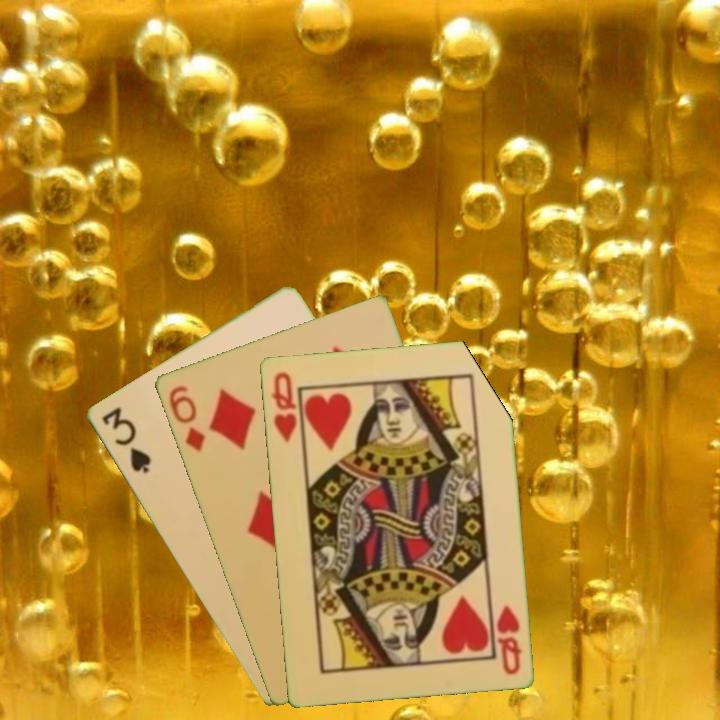3s: (97, 403, 154, 476)
6d: (164, 381, 208, 455)
Qh: (492, 601, 525, 677), (267, 367, 299, 445)
